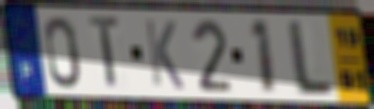0: (41, 13, 84, 90)
1: (249, 17, 281, 97)
2: (189, 16, 235, 95)
K: (142, 17, 186, 93)
L: (287, 17, 336, 99)
T: (87, 13, 123, 93)
